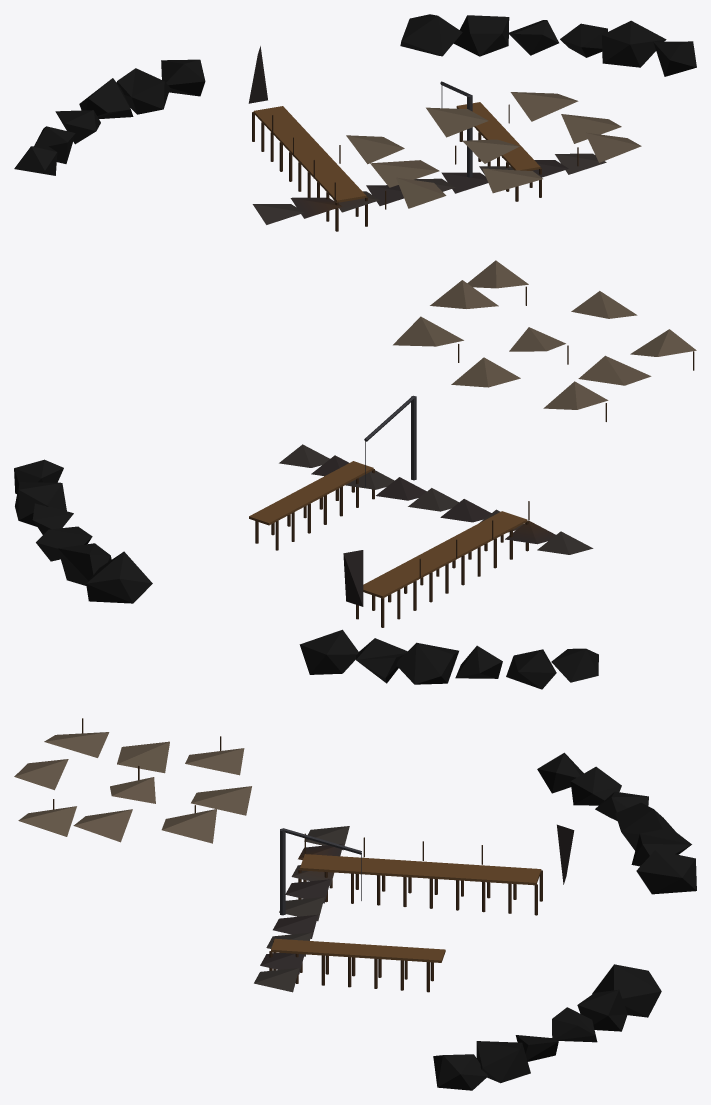
Rendered from ash_harbour_lod1.glb.
The picture shows the model from 3 angles, top to bottom: view 1: azimuth 30°, elevation 25°; view 2: azimuth 150°, elevation 25°; view 3: azimuth 270°, elevation 25°; orthographic projection. The views are drawn at different scales.
Visible parts, largest first — view 1: geometry_0; view 2: geometry_0; view 3: geometry_0.
Part boxes in pixels (x1,y1,x2,y2): geometry_0: [14, 14, 696, 231]; geometry_0: [14, 260, 696, 689]; geometry_0: [14, 718, 696, 1090].
Bounding box in the file's own units: 114 × 25.09 × 103.
